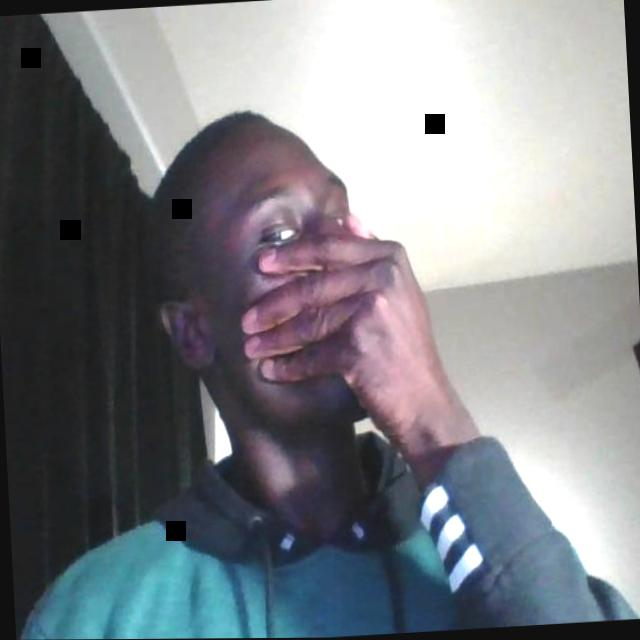NO-Mask: (194, 146, 372, 448)
